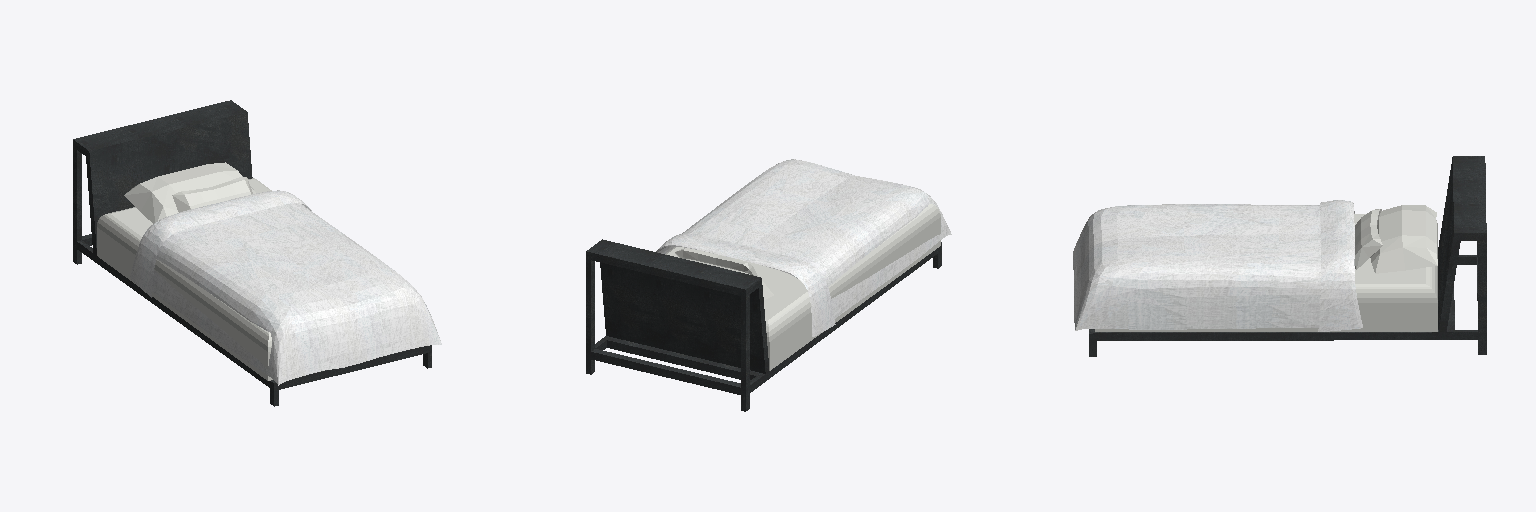
3 renders of one model, left to right at view 1: azimuth 30°, elevation 25°; view 2: azimuth 150°, elevation 25°; view 3: azimuth 270°, elevation 25°, orthographic.
Parts seen in each view (by area): view 1: Mesh2_Group3_Group1_Model, Mesh6_Group5_Model, Mesh1_Group2_Group1_Model, Mesh5_Group_9_2_Group1_Model, Mesh3_Group4_Group1_Model; view 2: Mesh6_Group5_Model, Mesh2_Group3_Group1_Model, Mesh1_Group2_Group1_Model, Mesh3_Group4_Group1_Model; view 3: Mesh2_Group3_Group1_Model, Mesh6_Group5_Model, Mesh1_Group2_Group1_Model, Mesh5_Group_9_2_Group1_Model, Mesh3_Group4_Group1_Model.
Part boxes in pixels (x1,y1,x2,y2): Mesh2_Group3_Group1_Model: (130,190,441,385); Mesh6_Group5_Model: (73,100,431,406); Mesh1_Group2_Group1_Model: (97,178,272,380); Mesh5_Group_9_2_Group1_Model: (124,162,255,223); Mesh3_Group4_Group1_Model: (172,177,252,212); Mesh6_Group5_Model: (586,239,941,411); Mesh2_Group3_Group1_Model: (656,159,951,336); Mesh1_Group2_Group1_Model: (665,204,940,370); Mesh3_Group4_Group1_Model: (675,248,757,276); Mesh2_Group3_Group1_Model: (1073,200,1362,331); Mesh6_Group5_Model: (1089,156,1486,356); Mesh1_Group2_Group1_Model: (1095,214,1437,331); Mesh5_Group_9_2_Group1_Model: (1371,205,1437,273); Mesh3_Group4_Group1_Model: (1355,209,1382,269).
Size of the model in its own units: 19.82 by 13.45 by 41.18.
Materials: 4 (2 with a texture image).